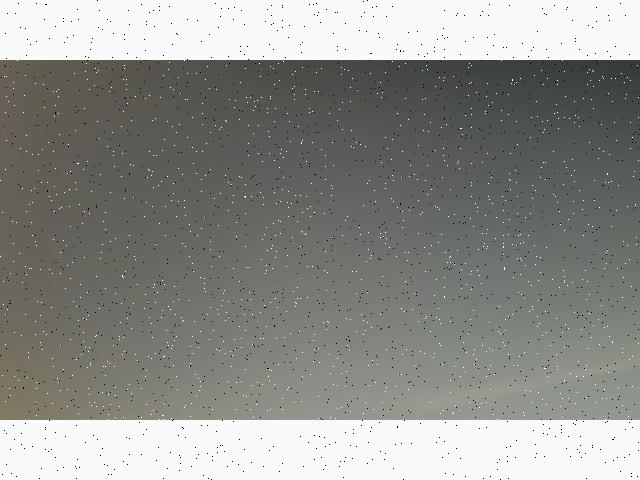Anti-Drone: (290, 222, 322, 246)
